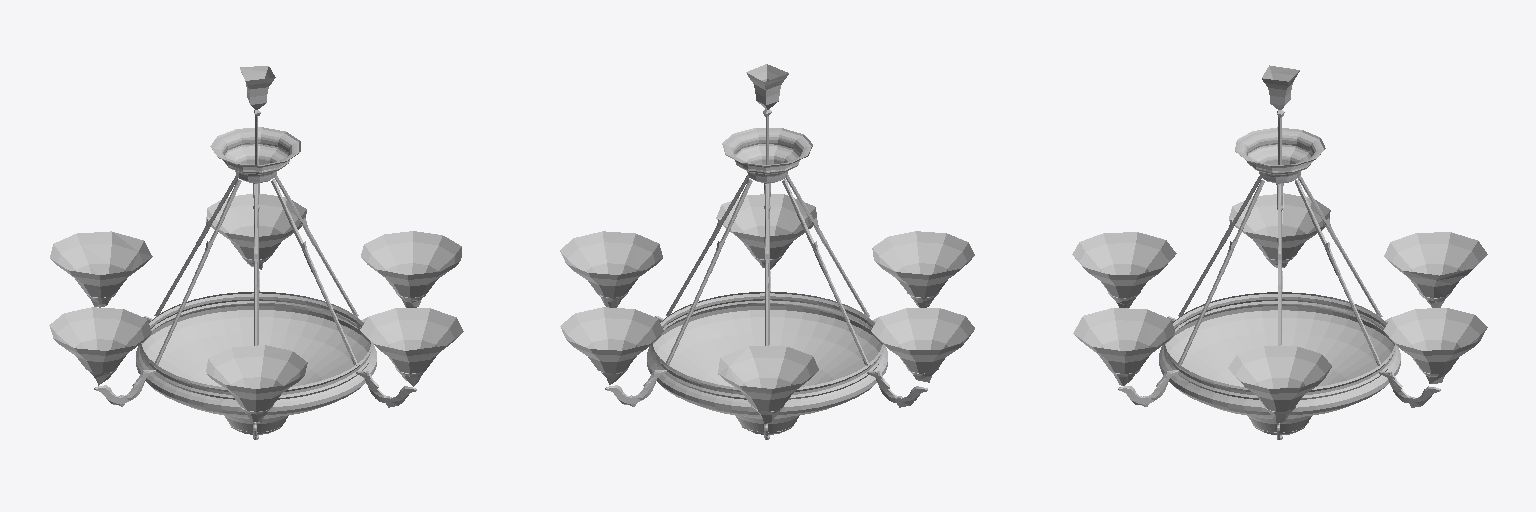
File: Candelabro.obj
3 renders of one model, left to right at view 1: azimuth 30°, elevation 25°; view 2: azimuth 150°, elevation 25°; view 3: azimuth 270°, elevation 25°, orthographic.
Visible parts, largest first — view 1: MODUL_CHANDELIER:Mesh; view 2: MODUL_CHANDELIER:Mesh; view 3: MODUL_CHANDELIER:Mesh.
Part boxes in pixels (left/top/right/bottom): MODUL_CHANDELIER:Mesh: left=49, top=66, right=463, bottom=439; MODUL_CHANDELIER:Mesh: left=560, top=64, right=974, bottom=439; MODUL_CHANDELIER:Mesh: left=1072, top=65, right=1487, bottom=439.
Bounding box in the file's own units: 2.01 × 1.75 × 1.8.